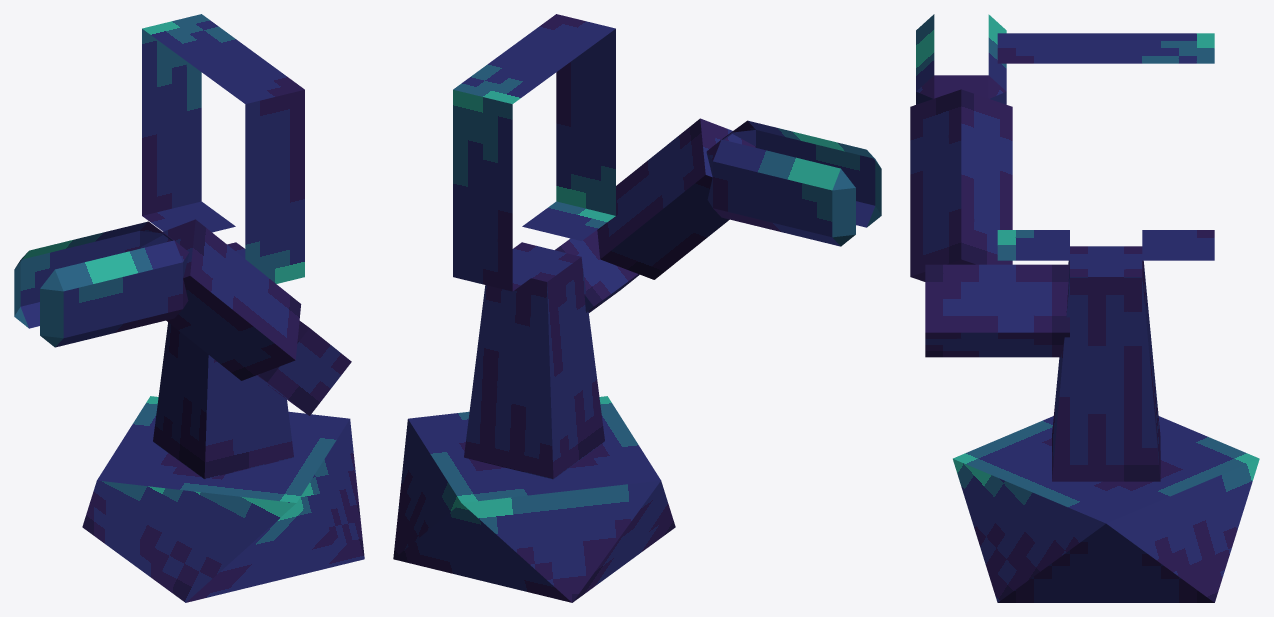
The model's file is SOLDIER_SG.gltf.
3 renders of one model, left to right at view 1: azimuth 30°, elevation 25°; view 2: azimuth 150°, elevation 25°; view 3: azimuth 270°, elevation 25°, orthographic. The views are drawn at different scales.
Parts seen in each view (by area): view 1: cuboid (×5), beveled_cuboid; view 2: cuboid (×5), beveled_cuboid; view 3: cuboid (×5), beveled_cuboid.
Part boxes in pixels (box(x1,y1,x2,y2)): cuboid (×5): box(82, 14, 364, 602); beveled_cuboid: box(14, 221, 189, 347); cuboid (×5): box(393, 14, 755, 602); beveled_cuboid: box(706, 120, 881, 246); cuboid (×5): box(910, 33, 1259, 602); beveled_cuboid: box(916, 14, 1006, 104).
Size of the model in its own units: 1.64 by 1.94 by 1.21.
Materials: 1 (1 with a texture image).
